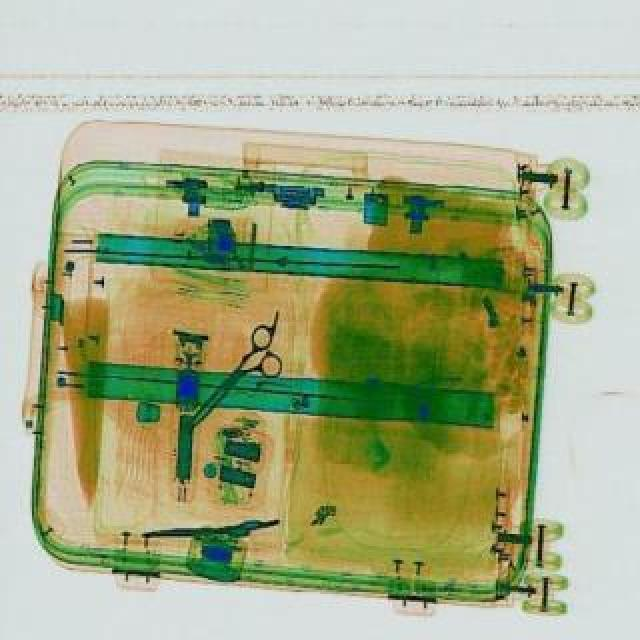pliers: (168, 318, 300, 440)
